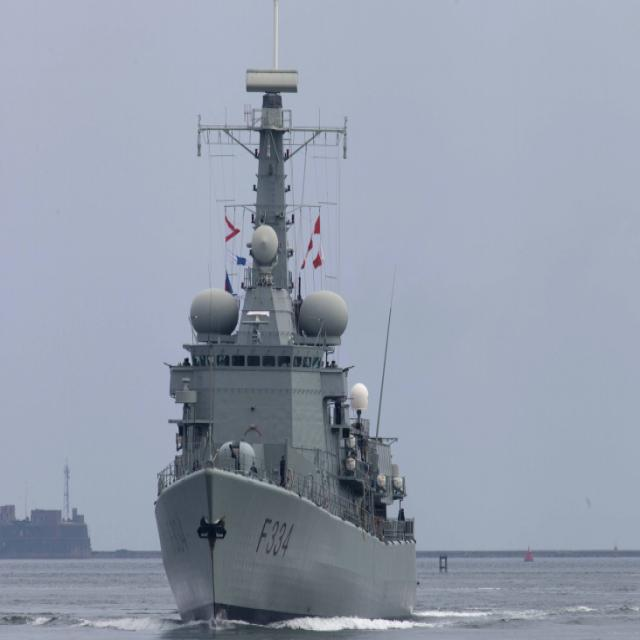Fragata: (155, 1, 424, 632)
